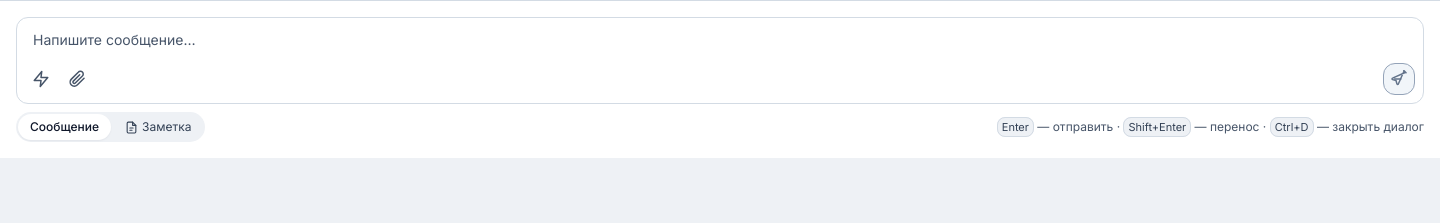
Композер после 422 «диалог закрыт» › «Вернуть в работу» снимает плашку, а не только меняет статус
Type "Здравствуйте, мастер выехал" into the text box. click: (720, 40)
box: x1=25 y1=26 x2=1415 y2=54
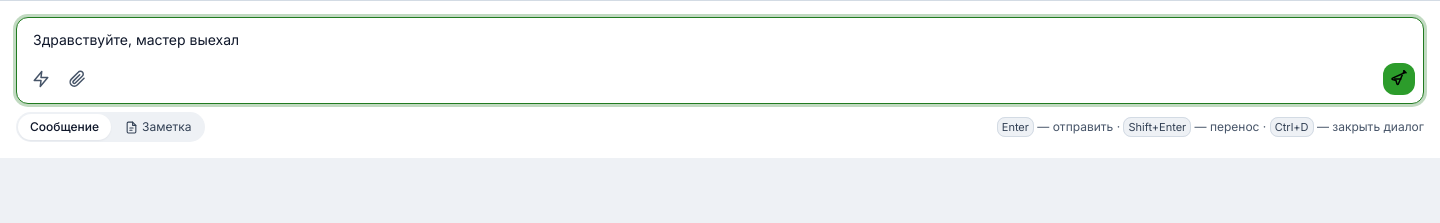
Click the button named "Отправить". click: (1399, 79)
box: x1=1383 y1=63 x2=1415 y2=95
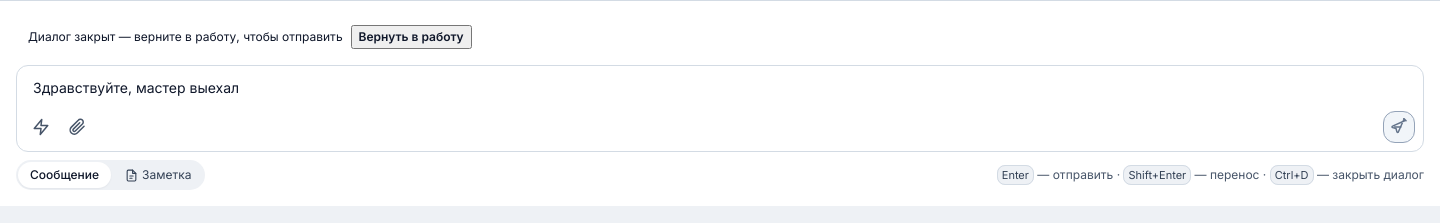
Check: the text "Диалог закрыт — верните в работу, чтобы отправить Вернуть в работу" is shown, box x1=28 y1=25 x2=472 y2=49
Click the button "Вернуть в работу". click: (411, 37)
box: x1=351 y1=25 x2=472 y2=49
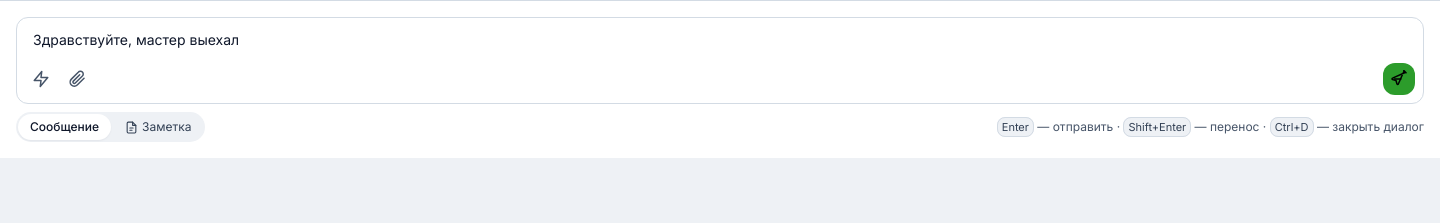
Check: the text "Диалог закрыт — верните в работу" is gone
